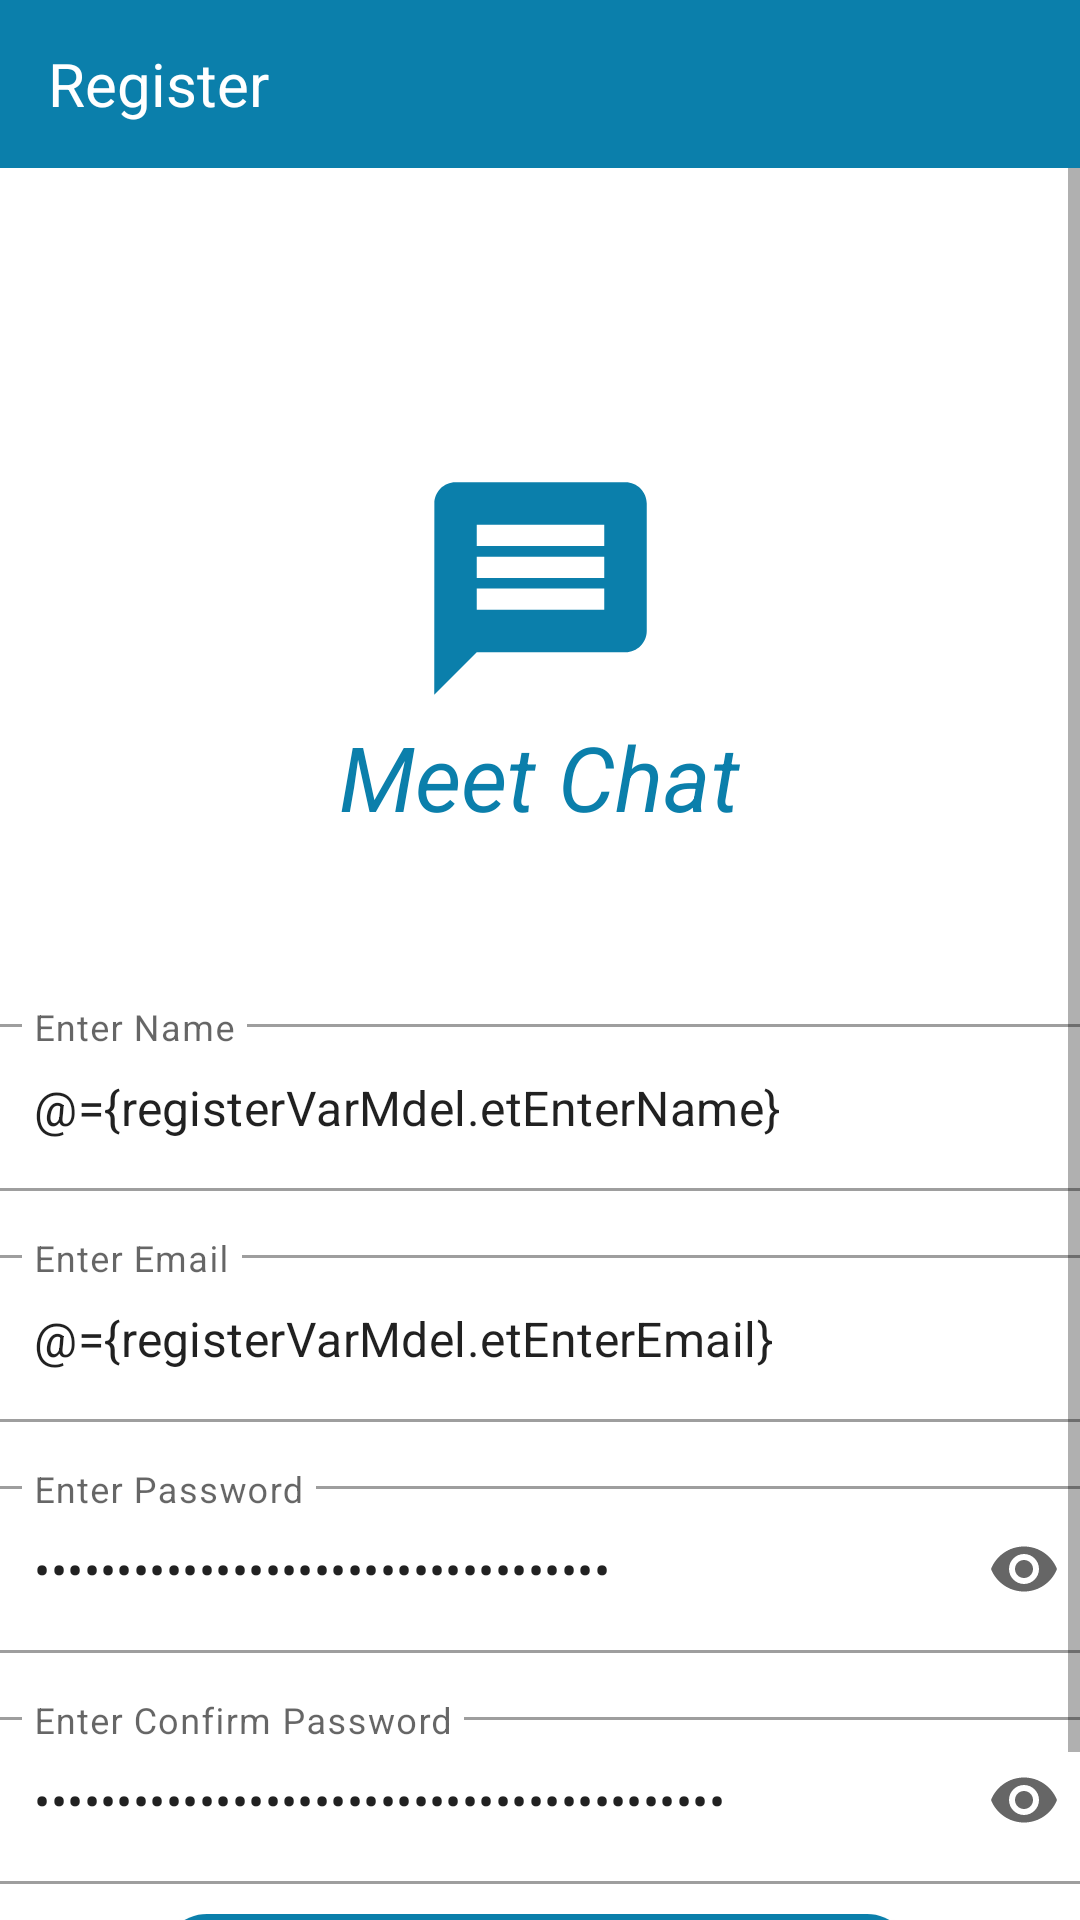

Locate icon controls on the screen. Image size 1080*1920, boxes as (x1, y1, x2, y2).
message register: (434, 482, 647, 695)
